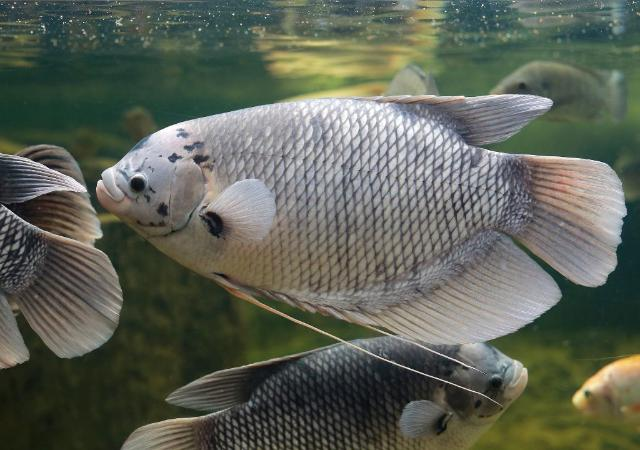Mulut: (70, 151, 142, 234), (482, 343, 554, 405)
Sirip Anal: (265, 232, 573, 354)
Sirip Dada: (184, 165, 294, 263), (380, 386, 460, 450)
Sirip Ekor: (502, 140, 638, 301), (12, 225, 144, 363)
Sirip Perut: (180, 257, 510, 407)
Sirip Punggung: (267, 86, 568, 158), (160, 346, 322, 420)
